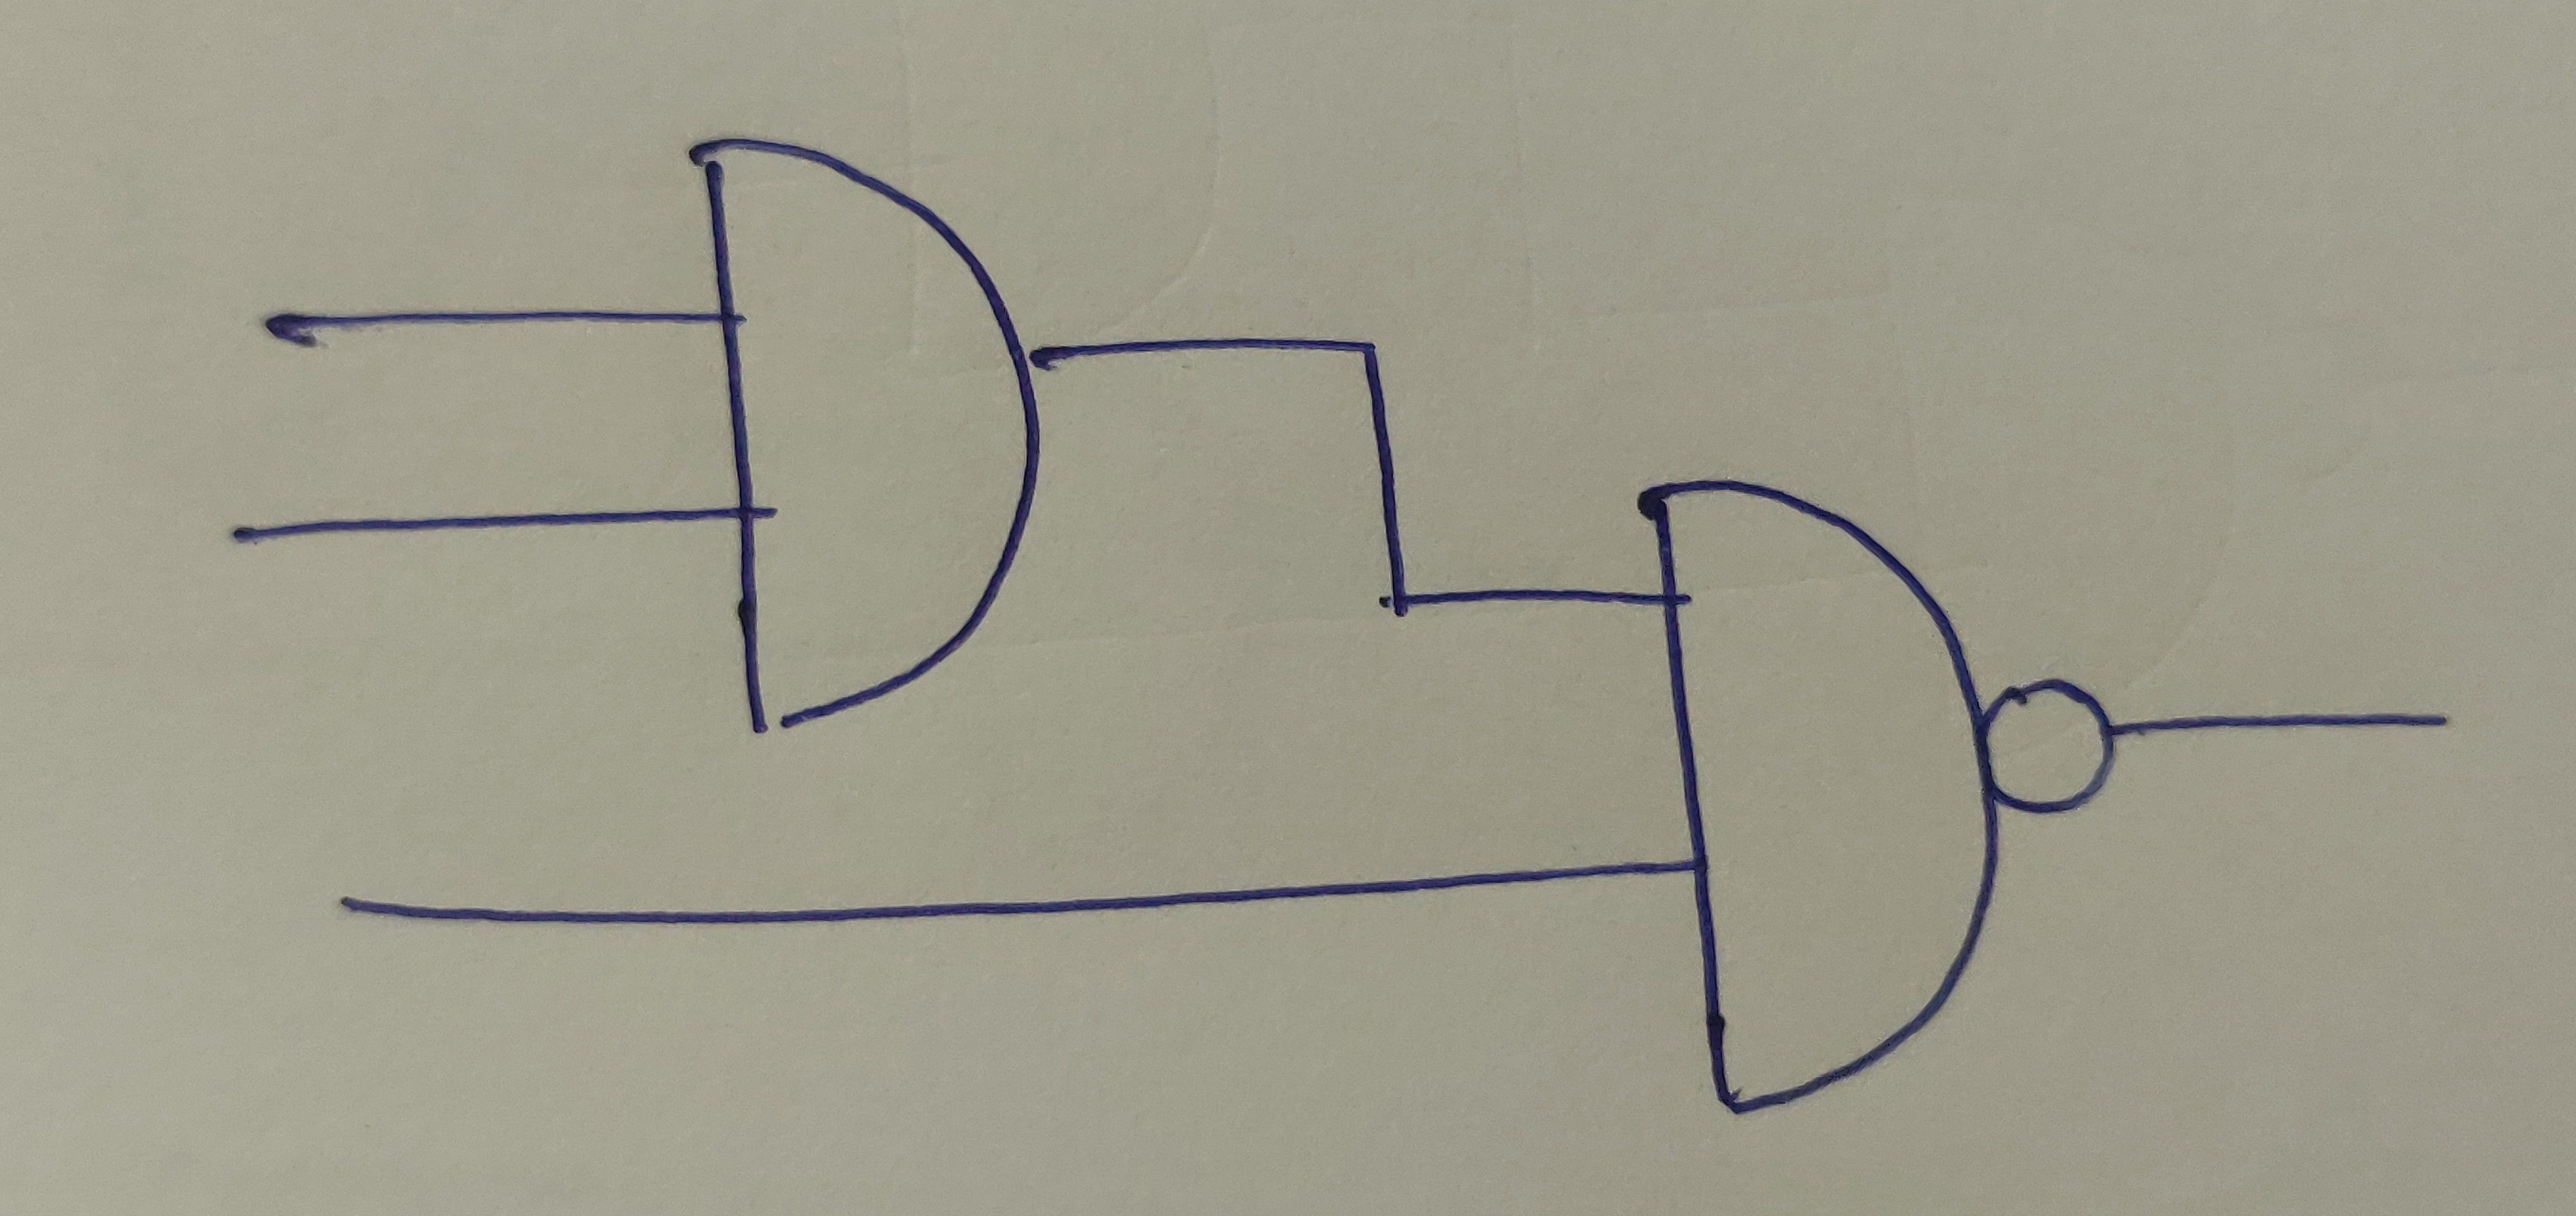and: (1641, 477, 1998, 1112), (697, 125, 1035, 735)
not: (1988, 679, 2123, 813)
